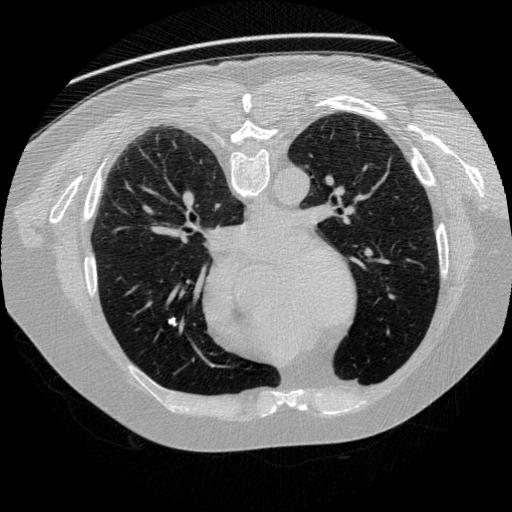nodule: (165, 317, 177, 329)
